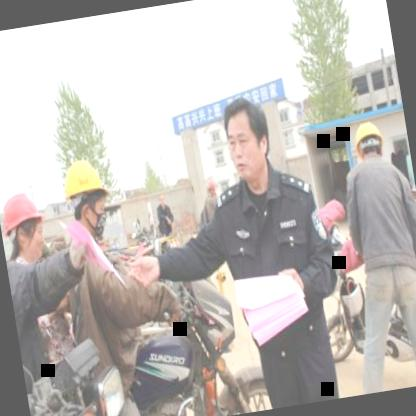helmet: (54, 150, 119, 237), (0, 181, 53, 269), (347, 118, 390, 174)
